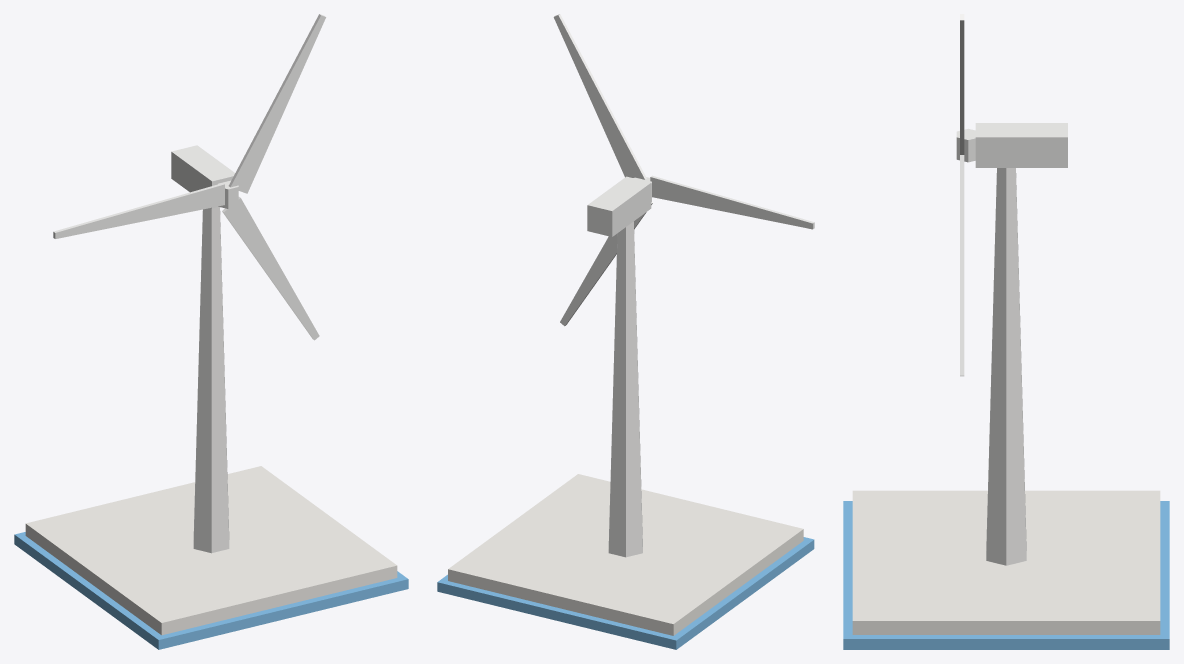
Rendered from wind_low.glb.
The picture shows the model from 3 angles, left to right: view 1: azimuth 30°, elevation 25°; view 2: azimuth 150°, elevation 25°; view 3: azimuth 270°, elevation 25°; orthographic projection. The views are drawn at different scales.
Parts seen in each view (by area): view 1: base, white, rim_3d8fe0; view 2: base, white, rim_3d8fe0; view 3: base, white, rim_3d8fe0.
Part boxes in pixels (x1,y1,x2,y2): base: (25,466,397,635); white: (53,14,326,553); rim_3d8fe0: (14,532,408,649); base: (448,474,803,635); white: (553,14,814,557); rim_3d8fe0: (437,537,814,649); base: (852,490,1160,634); white: (956,14,1067,565); rim_3d8fe0: (843,501,1169,649).
Bounding box in the file's own units: 6.4 × 11.04 × 5.3.
